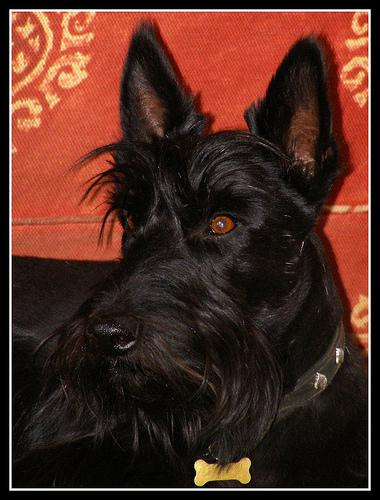dog-scottish_terrier: (83, 23, 341, 403)
